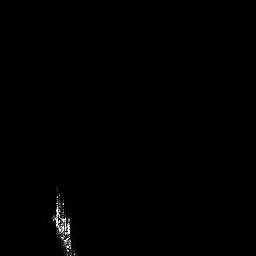ship: (50, 184, 76, 256)
